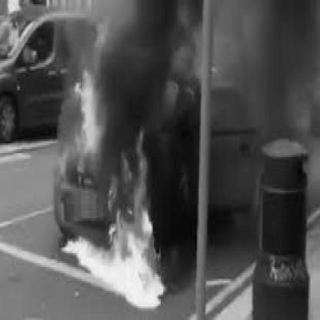Fire: (75, 53, 107, 173)
